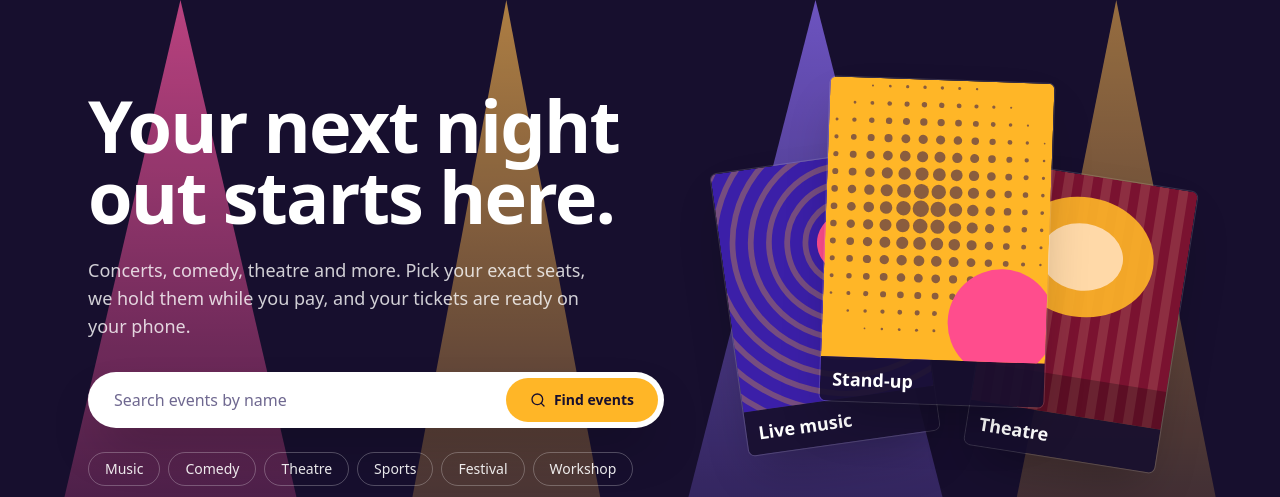
Scenario: HomePage › takes a search to the events page
Type "jazz" into the search field labelled "Search events by name" at x=296, y=400, box x1=94 y1=378 x2=498 y2=422
Then press Enter
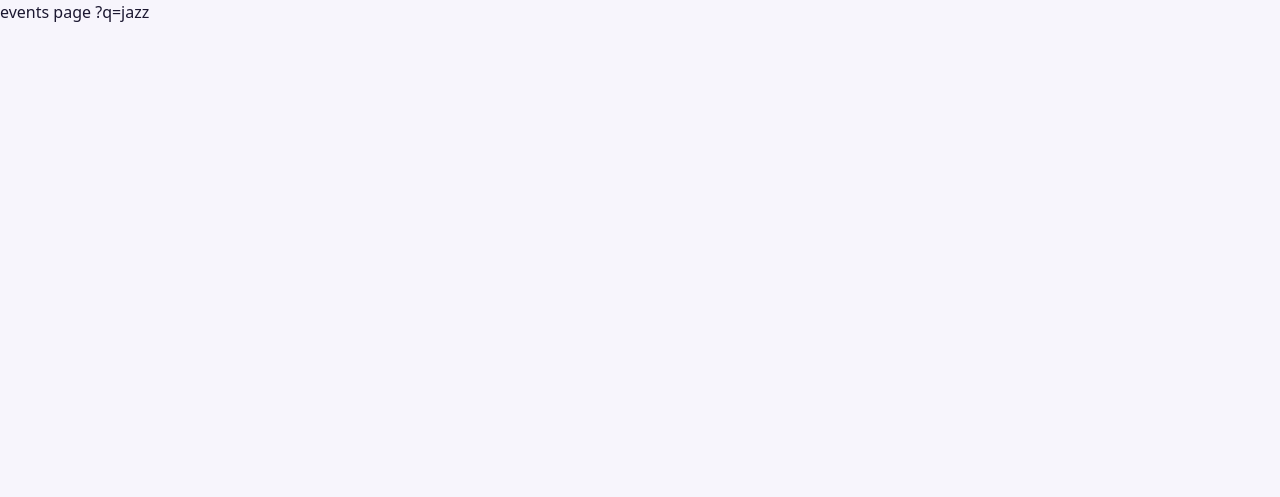
Result: the text "events page ?q=jazz" is shown at x1=0 y1=1 x2=149 y2=23
